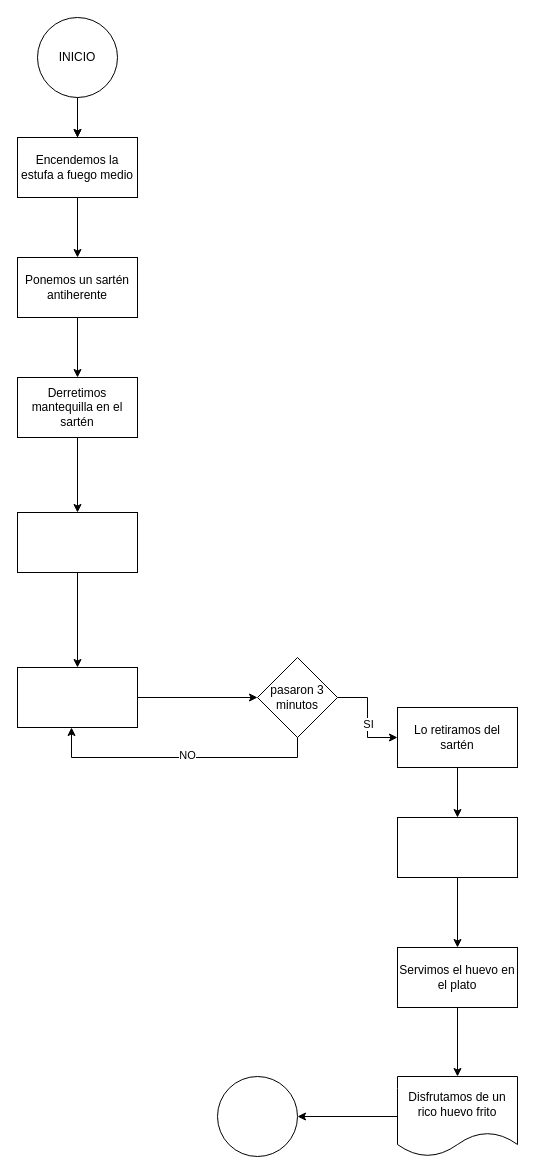
Image size: 535x1174. Some labels were removed from this diagram. The shapes that lost their labels are listed below. From the top down, each one's centre as x and y in pixels, then its label:
(77,542): Abrimos el huevo, lo ponemos en el sartén y le echamos sal
(77,697): Esperamos 3 minutos hasta que se frite
(457,847): Apagamos la estufa
(257,1116): FIN
